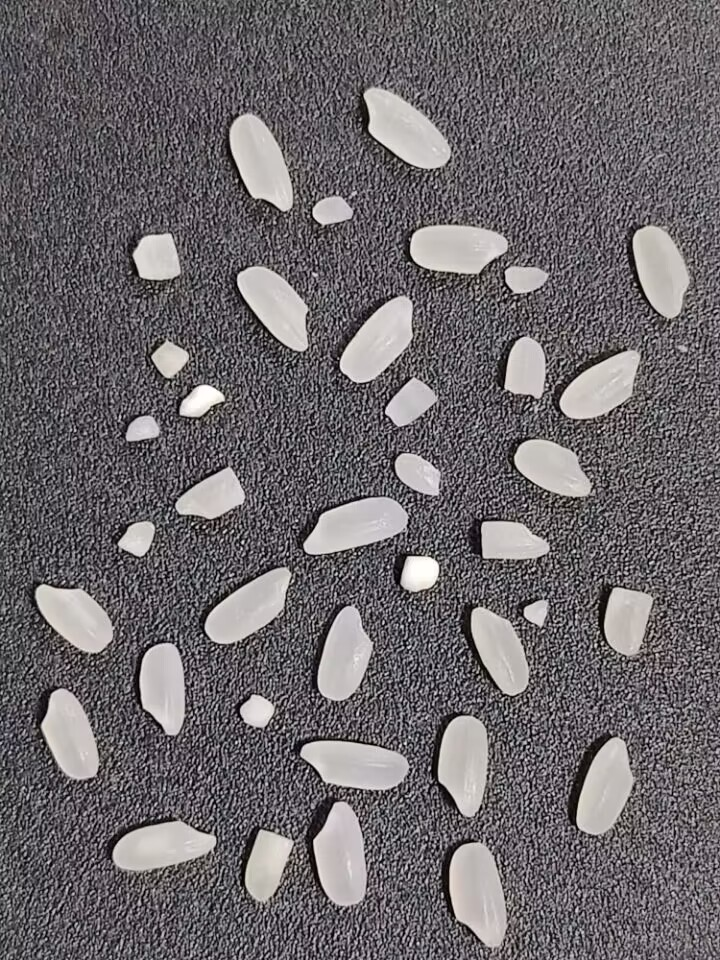broken: (173, 465, 248, 520), (243, 829, 295, 902), (602, 584, 653, 658), (478, 520, 551, 561), (503, 335, 548, 400), (389, 451, 447, 500), (385, 377, 438, 428), (129, 232, 181, 283), (174, 382, 224, 428), (395, 551, 444, 596), (146, 334, 189, 384), (117, 516, 158, 558), (311, 190, 355, 227), (235, 692, 275, 732), (121, 414, 163, 447), (504, 265, 549, 293), (520, 596, 555, 630)
rice: (361, 83, 453, 172), (233, 263, 315, 359), (443, 839, 510, 951), (226, 109, 296, 214), (336, 292, 415, 385), (299, 491, 412, 556), (201, 566, 292, 646), (557, 346, 645, 426), (31, 580, 116, 658), (310, 798, 370, 907), (574, 735, 638, 837), (109, 817, 219, 873), (314, 605, 376, 703), (627, 224, 691, 318), (39, 685, 101, 781), (466, 604, 530, 697), (435, 712, 491, 818), (296, 739, 410, 790), (406, 222, 512, 276), (510, 438, 596, 501), (136, 642, 187, 738)
